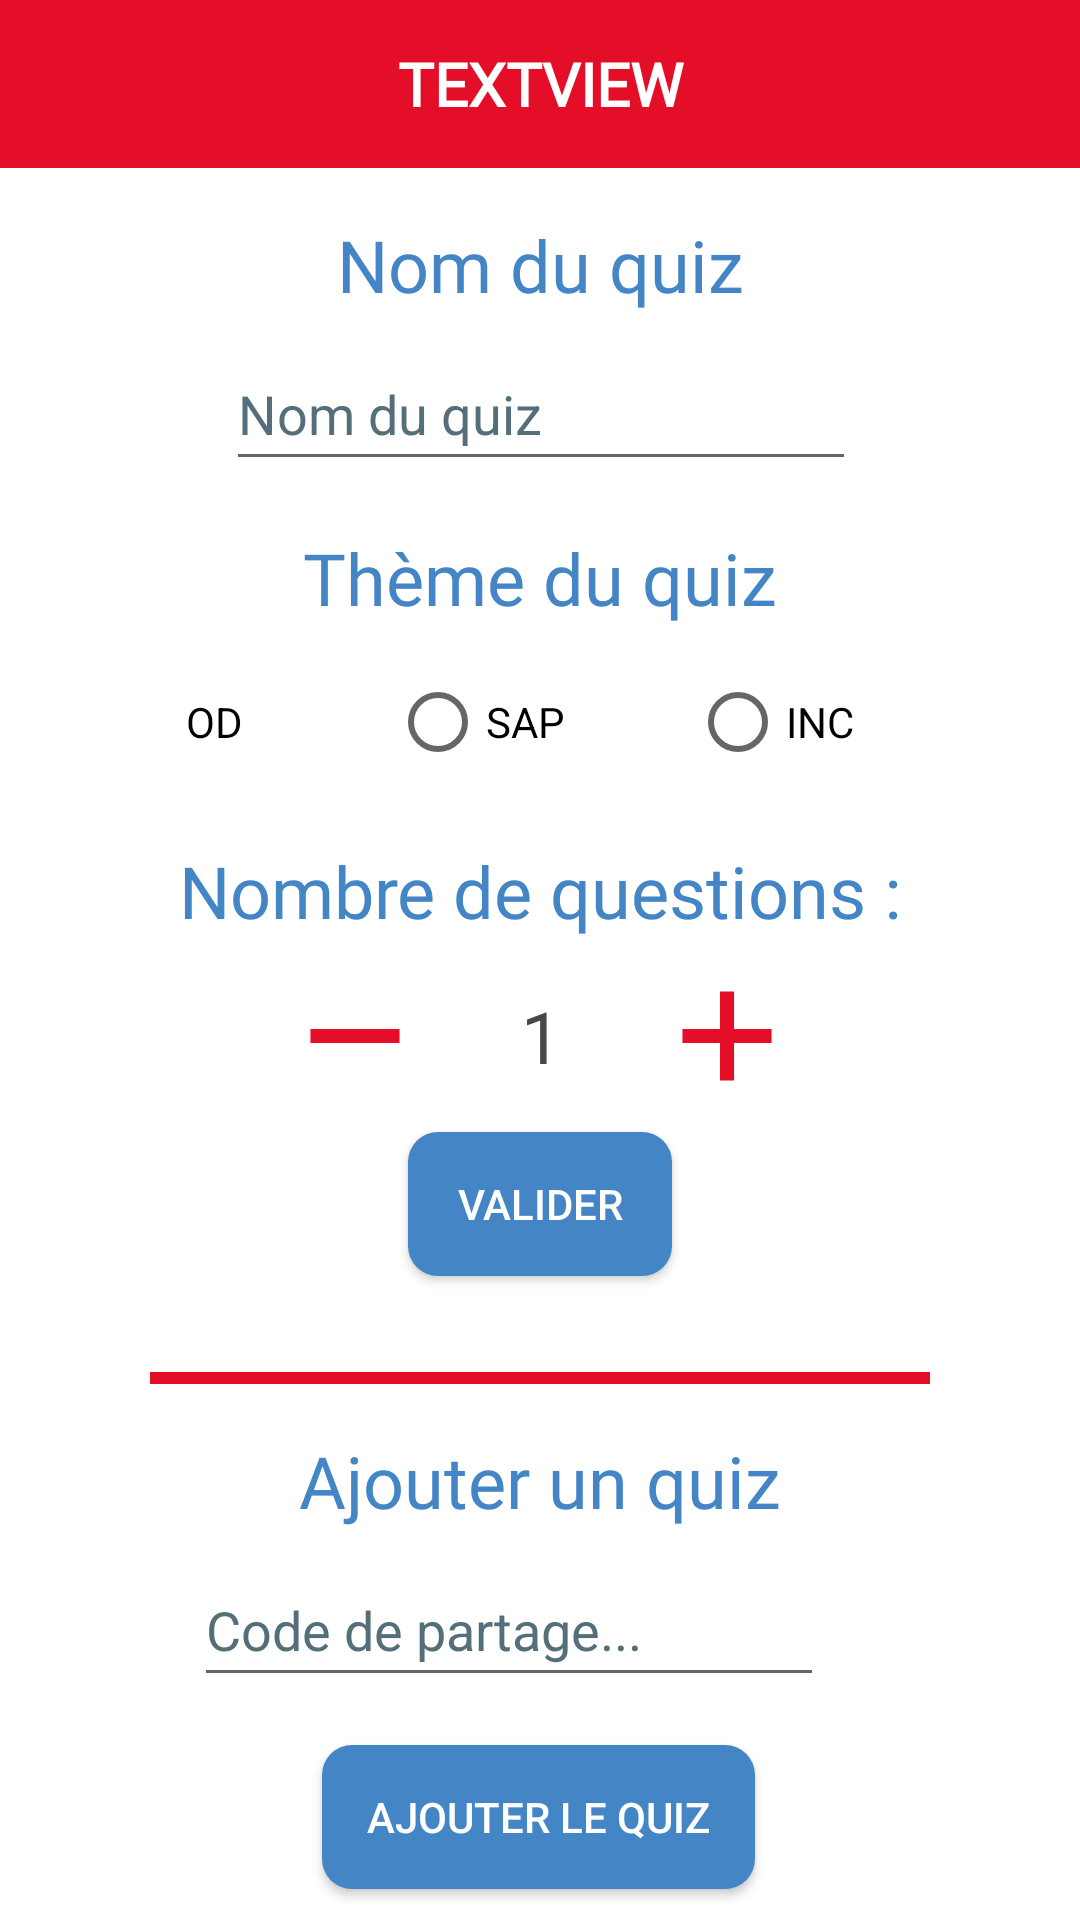

Icon bounding boxes for this 1080 x 1920 phone screenshot, format rect(x1, y1, x2, y2):
add: rect(682, 991, 772, 1081)
